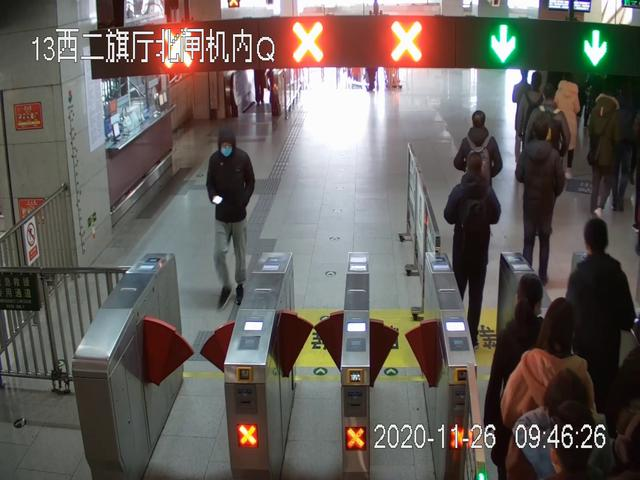person: (502, 299, 600, 480), (485, 275, 564, 480), (568, 221, 635, 418), (445, 151, 500, 344), (206, 131, 254, 309), (516, 122, 563, 285), (455, 112, 503, 268), (586, 92, 622, 218), (552, 75, 585, 180)
